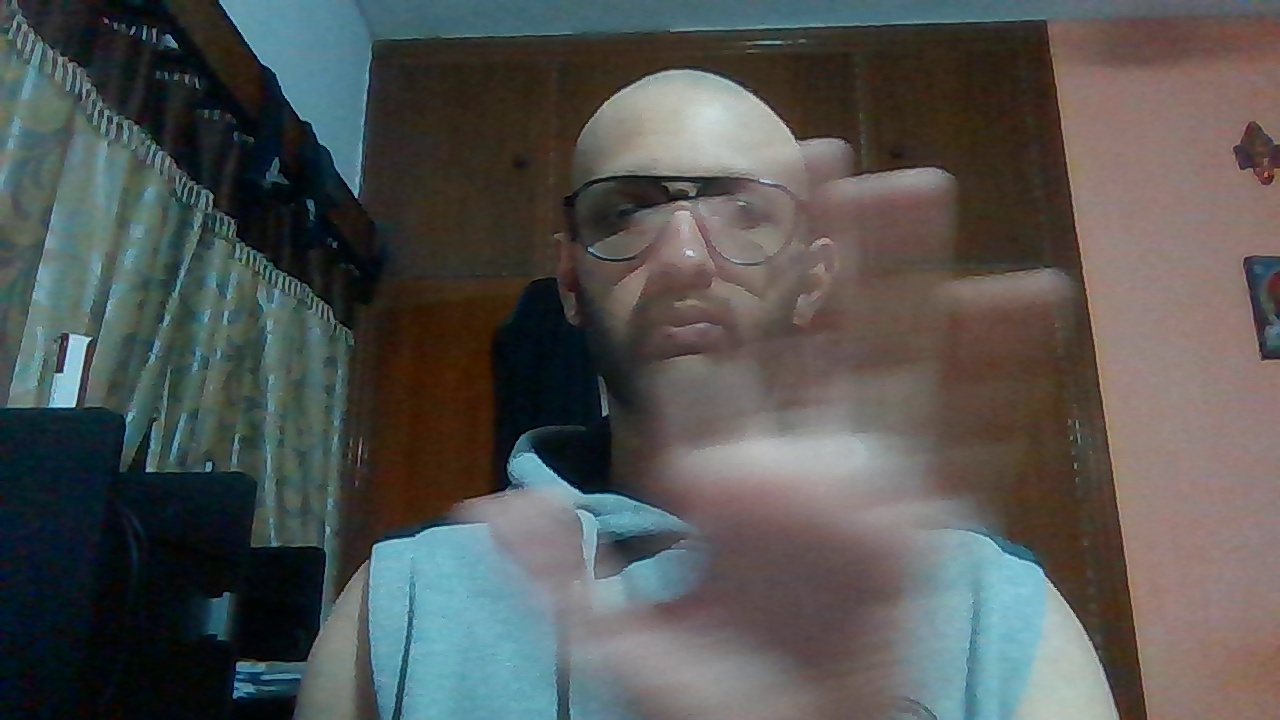Hello: (453, 138, 1080, 720)
